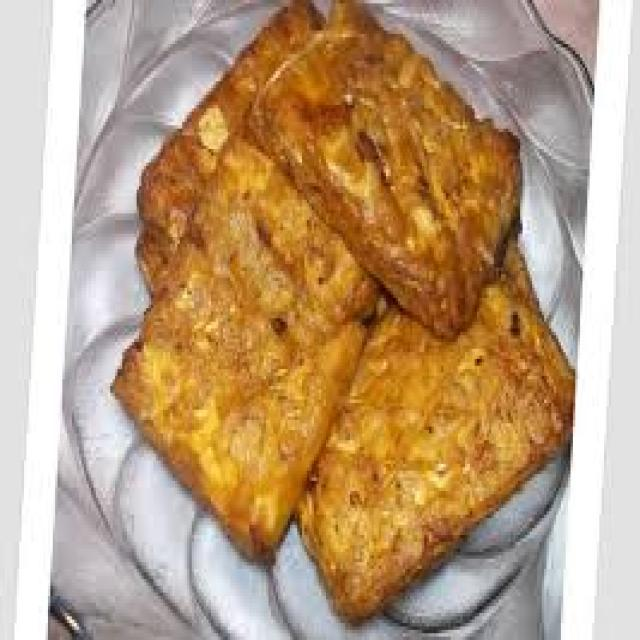tempe goreng: (104, 136, 373, 559), (279, 9, 528, 330)
